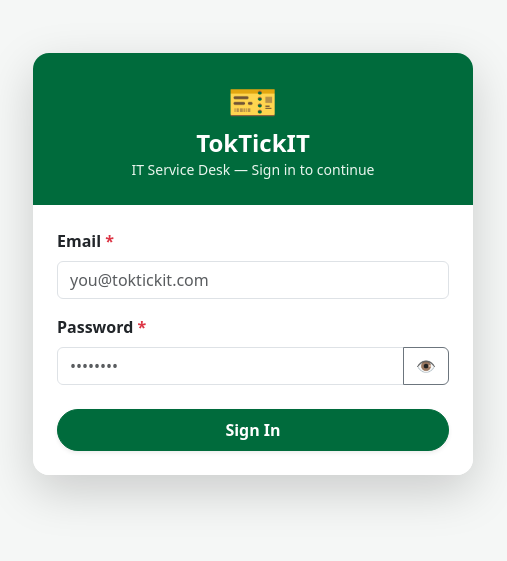
Test: Auth-01: Login Screen › Auth-01f: invalid credentials shows safe error alert
The image size is (507, 561).
Type "jennifer@toktickit.com" into the field with test id "login-email" at (253, 280), box top-left (57, 261), bottom-right (449, 299)
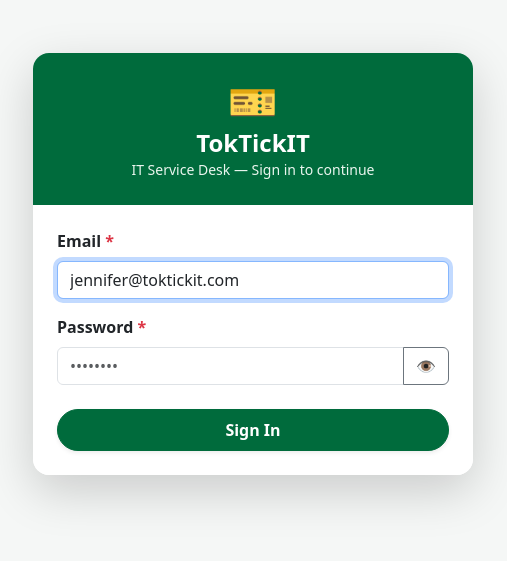
Type "WrongPassword1!" into the password field with test id "login-password" at (230, 366), box top-left (57, 347), bottom-right (404, 385)
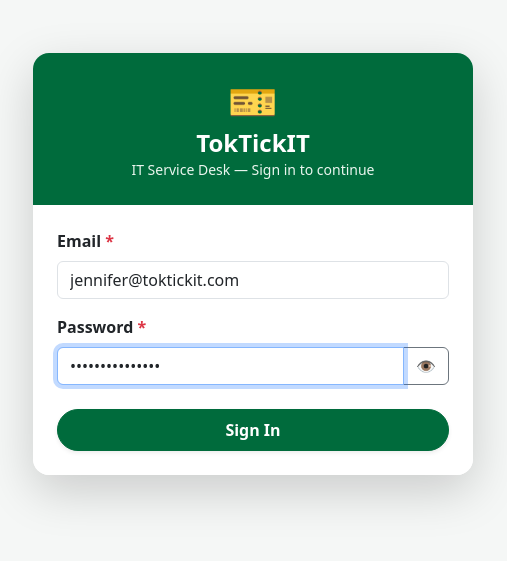
Click the button with test id "login-submit" at (253, 430), box top-left (57, 409), bottom-right (449, 451)
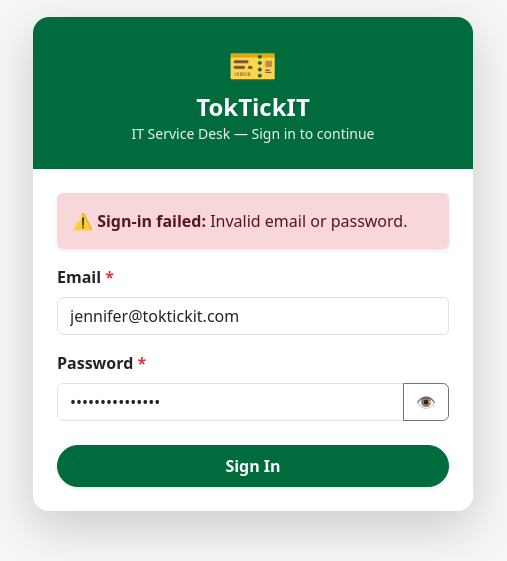
Check: the message "⚠️ Sign-in failed: Invalid email or password." is shown, box top-left (57, 193), bottom-right (449, 249)
Check: the message with test id "login-error" shows "Invalid email or password.", box top-left (210, 210), bottom-right (408, 232)
